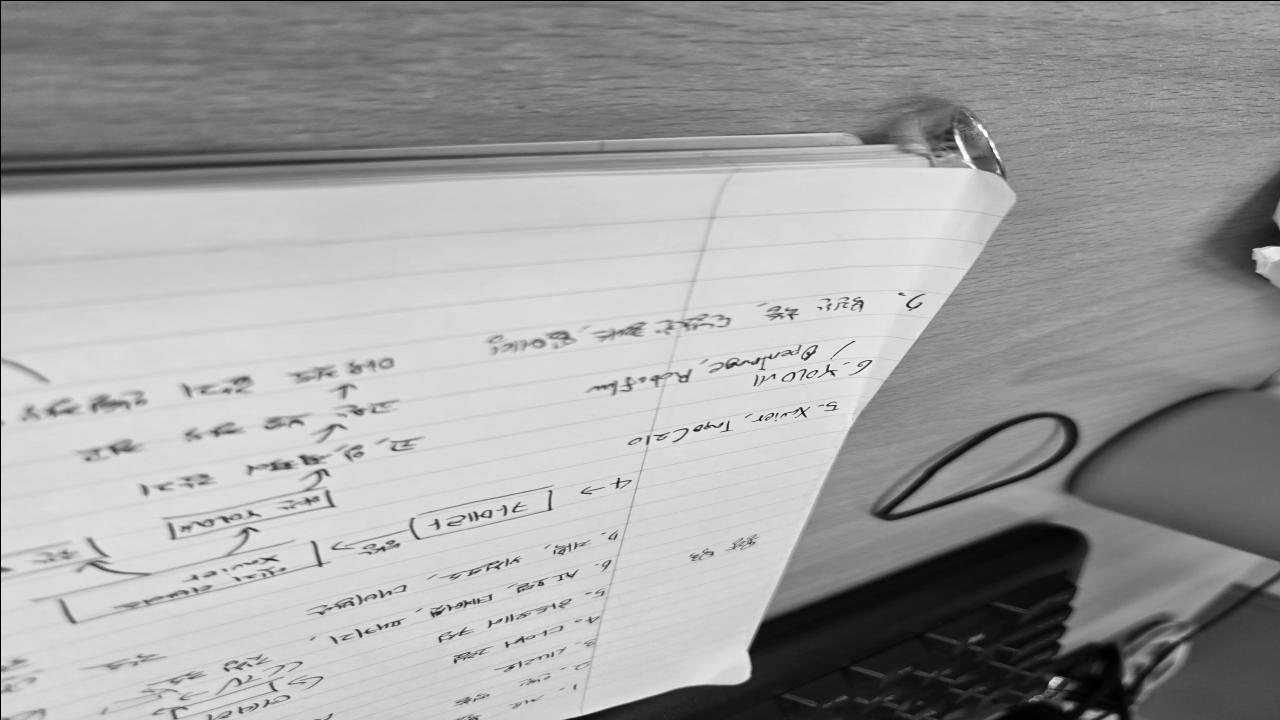ring: (914, 106, 1006, 181)
